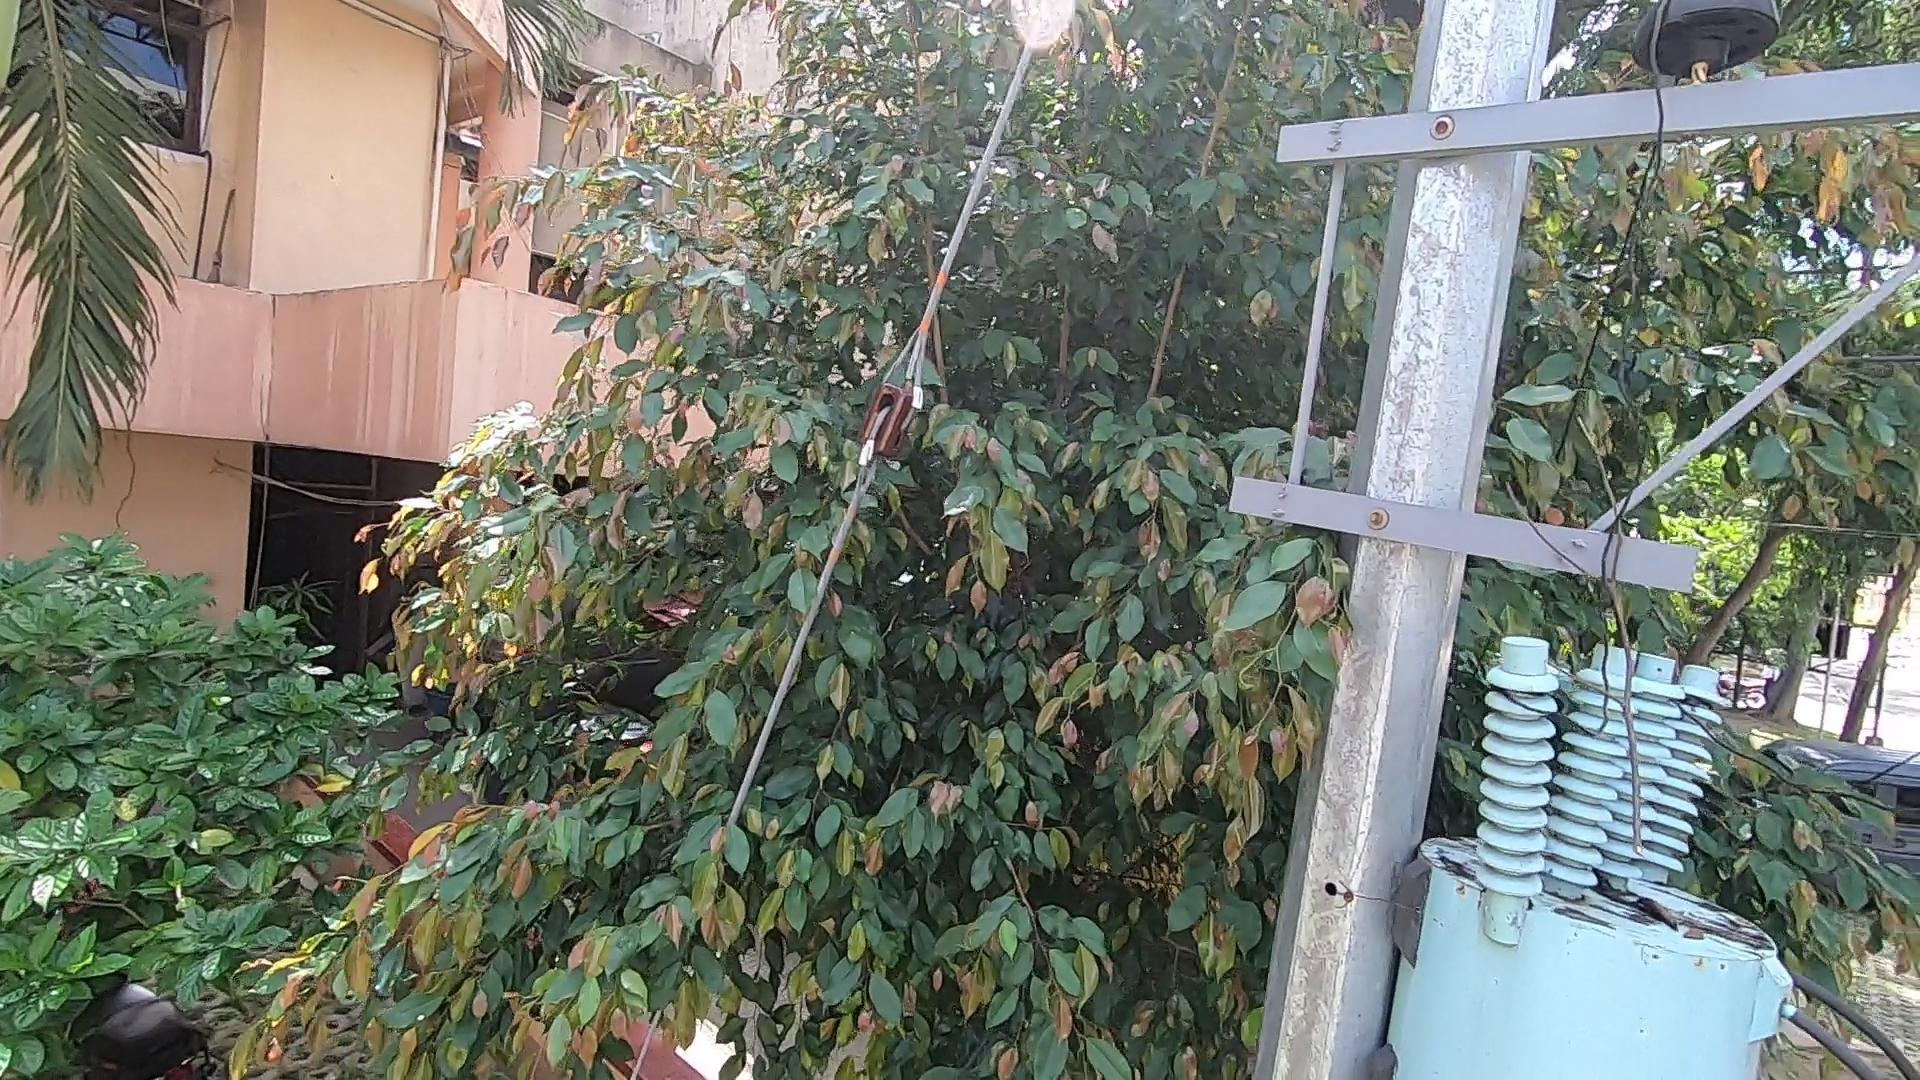leaf: (1581, 868, 1683, 934)
tree branch: (1502, 421, 1681, 862)
